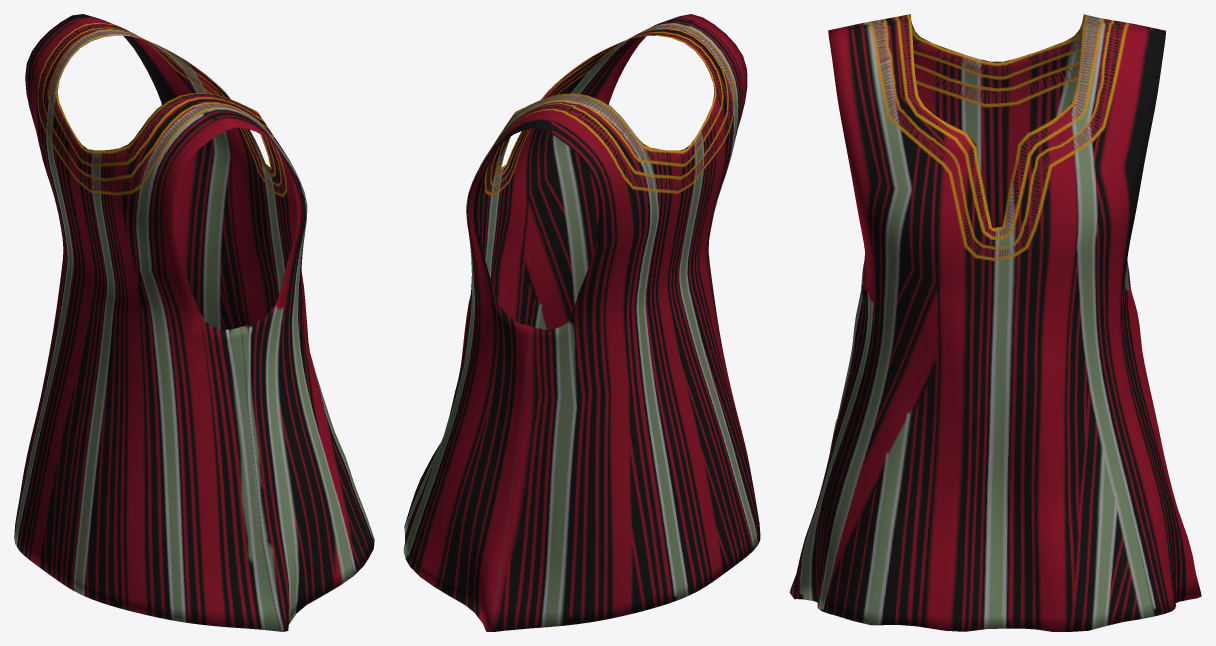
File: Tunique.fbx
3 views of the same model, side by side, from view 1: azimuth 30°, elevation 25°; view 2: azimuth 150°, elevation 25°; view 3: azimuth 270°, elevation 25° (orthographic). The views are drawn at different scales.
Visible parts, largest first — view 1: Tunique; view 2: Tunique; view 3: Tunique.
Boxes of the visible parts, x1=… form: Tunique: x1=14, y1=14, x2=374, y2=631; Tunique: x1=403, y1=14, x2=760, y2=631; Tunique: x1=789, y1=14, x2=1201, y2=631.
Bounding box in the file's own units: 3925 × 6769 × 4583.
1 material, 1 textured.
